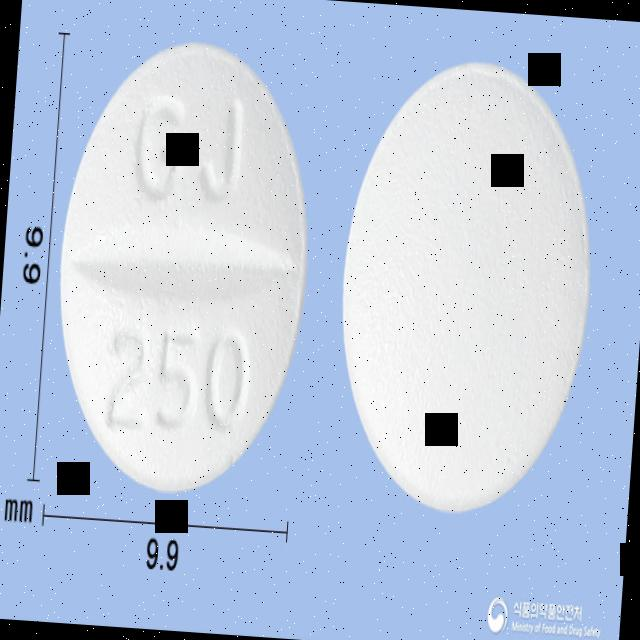Newloxacin Tab: (43, 29, 321, 500)
